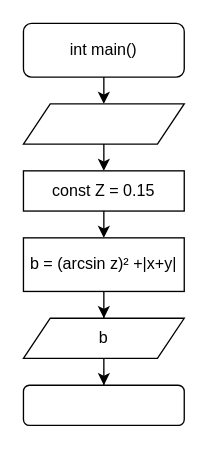
The diagram is 208 pixels wide and 449 high, and some of its shapes have lost their labels. The centre of each missing label's shape, as x and y in pixels:
return 0;: the point at 103,404
X, Y: the point at 103,123
